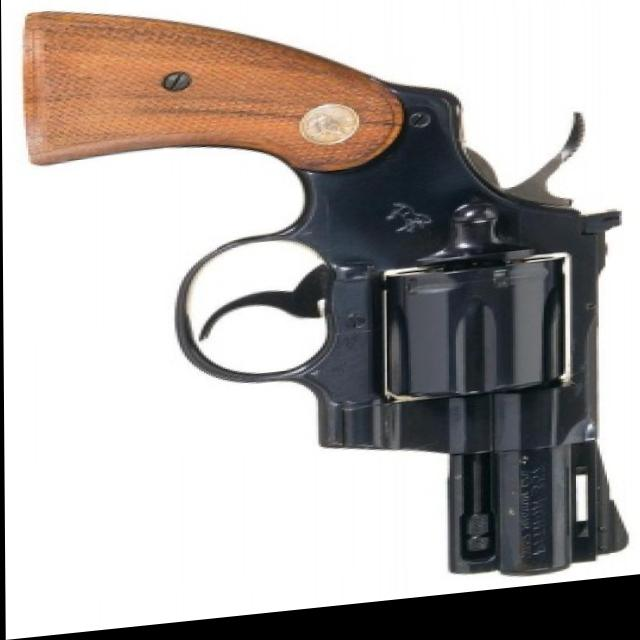handgun: (19, 0, 627, 629)
